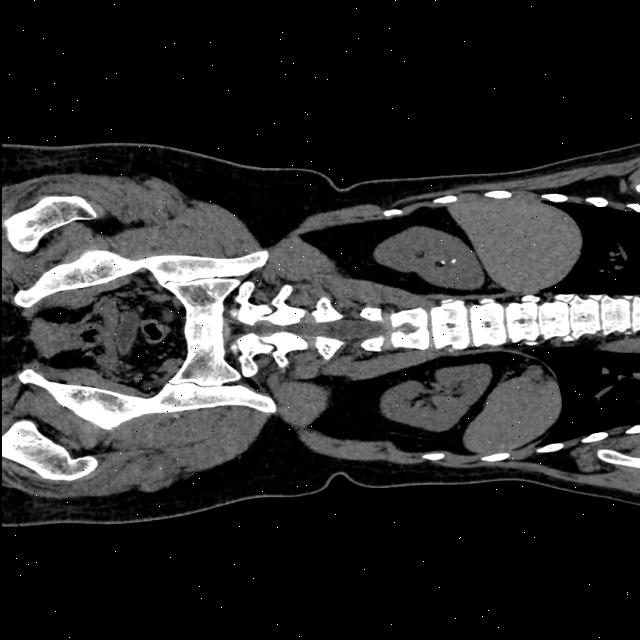kidneystone: (436, 260, 444, 266), (451, 259, 456, 264)
